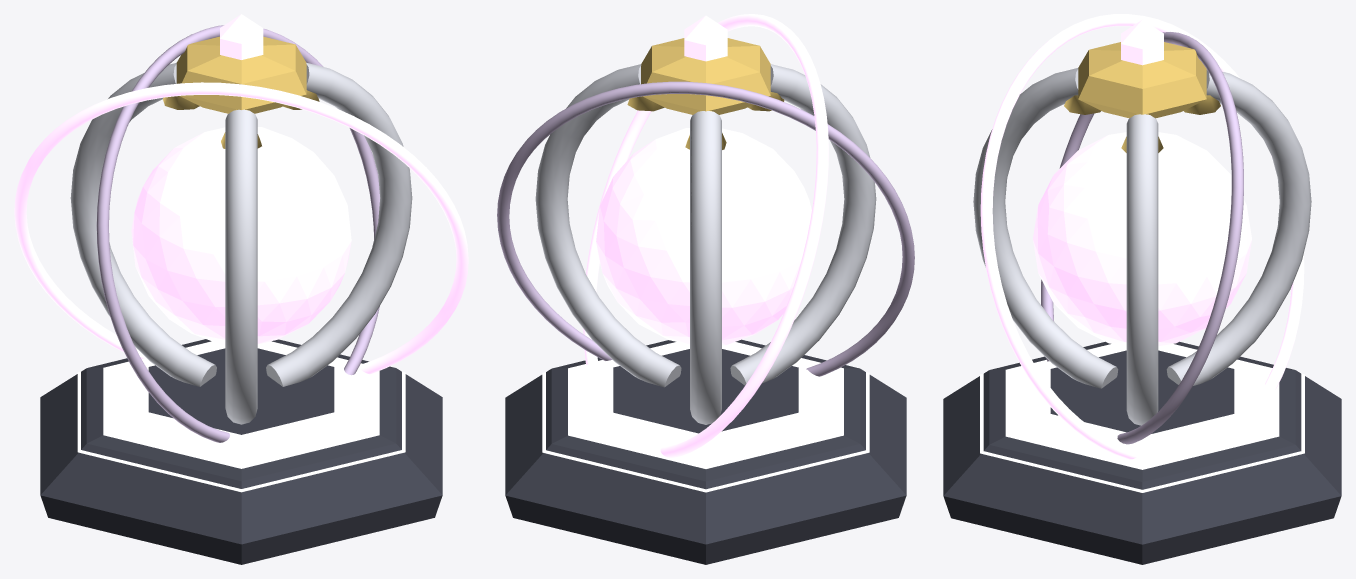
Rendered from CrateEffect.fbx.
The picture shows the model from 3 angles, left to right: view 1: azimuth 30°, elevation 25°; view 2: azimuth 150°, elevation 25°; view 3: azimuth 270°, elevation 25°; orthographic projection.
Visible parts, largest first — view 1: CrateEffect_Gunmetal, CrateEffect_Glow, CrateEffect_Chrome, CrateEffect_Lid_Glow, CrateEffect_Glow2, CrateEffect_Lid_Gold, CrateEffect_Gold; view 2: CrateEffect_Gunmetal, CrateEffect_Glow, CrateEffect_Chrome, CrateEffect_Glow2, CrateEffect_Lid_Glow, CrateEffect_Lid_Gold, CrateEffect_Gold; view 3: CrateEffect_Gunmetal, CrateEffect_Glow, CrateEffect_Chrome, CrateEffect_Lid_Glow, CrateEffect_Lid_Gold, CrateEffect_Glow2, CrateEffect_Gold.
Part boxes in pixels (x1,y1,x2,y2): CrateEffect_Gunmetal: (40,339,442,564); CrateEffect_Glow: (77,127,405,492); CrateEffect_Chrome: (70,62,412,424); CrateEffect_Lid_Glow: (14,14,468,374); CrateEffect_Glow2: (96,25,379,442); CrateEffect_Lid_Gold: (176,36,306,113); CrateEffect_Gold: (163,90,319,148); CrateEffect_Gunmetal: (505,339,906,564); CrateEffect_Glow: (542,128,869,492); CrateEffect_Chrome: (535,64,876,424); CrateEffect_Glow2: (497,81,914,376); CrateEffect_Lid_Glow: (583,14,828,457); CrateEffect_Lid_Gold: (641,38,770,114); CrateEffect_Gold: (627,92,784,149); CrateEffect_Gunmetal: (943,341,1341,564); CrateEffect_Glow: (980,132,1304,492); CrateEffect_Chrome: (973,68,1311,425); CrateEffect_Lid_Glow: (980,14,1304,459); CrateEffect_Lid_Gold: (1078,42,1206,118); CrateEffect_Glow2: (1041,32,1243,444); CrateEffect_Gold: (1064,95,1220,152).
Bounding box in the file's own units: 2.6 × 2.82 × 2.25.
